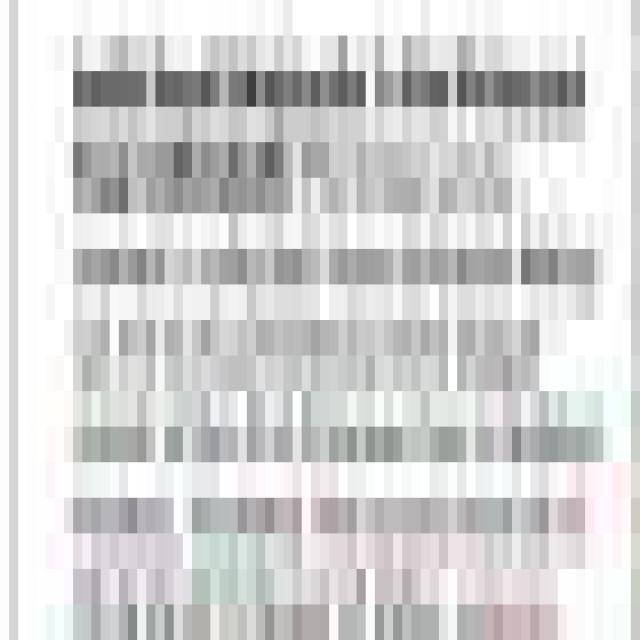paper: (9, 35, 640, 640)
